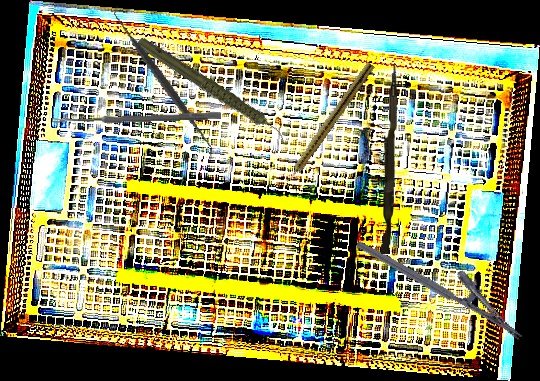Handpiece: (134, 10, 289, 172), (282, 60, 375, 186)
Needle Holder: (355, 218, 536, 342)
Pusher: (381, 62, 398, 255)
Spatula Surgical: (85, 5, 242, 160)
Surgical Spoon: (51, 111, 222, 125)
